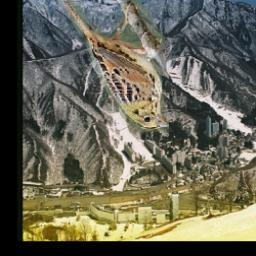Sparrow: (56, 0, 169, 132)
